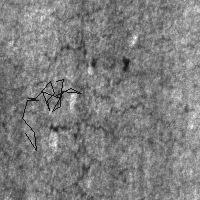crazing: (32, 78, 164, 136), (22, 79, 81, 150), (38, 140, 95, 192), (38, 10, 88, 67)
